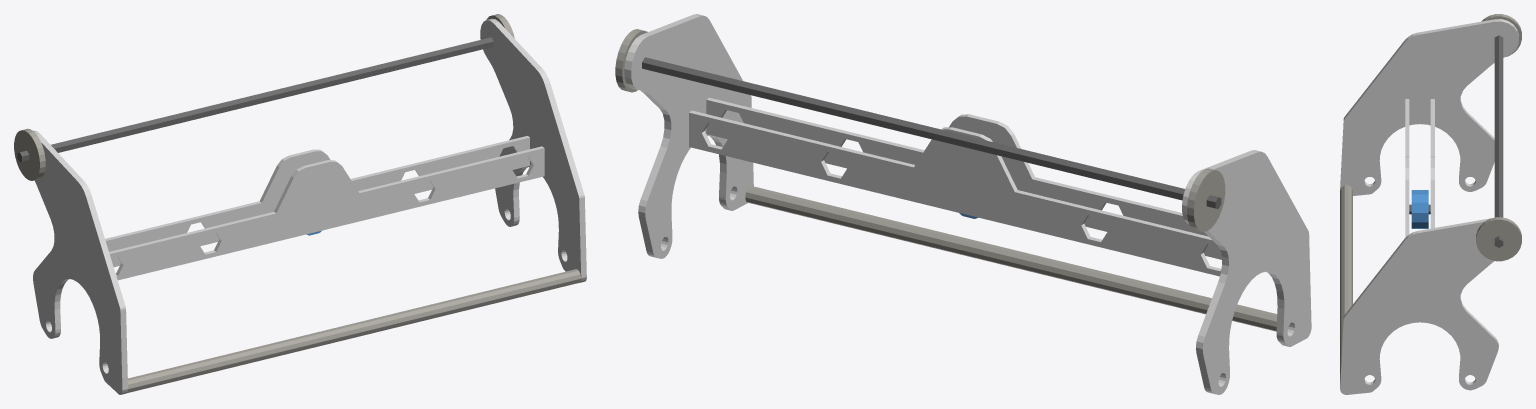
Rendered from ground-intake.glb.
3 renders of one model, left to right at view 1: azimuth 30°, elevation 25°; view 2: azimuth 150°, elevation 25°; view 3: azimuth 270°, elevation 25°, orthographic. The views are drawn at different scales.
Parts seen in each view (by area): view 1: mesh287, mesh227, mesh365, mesh339, mesh262, mesh261, mesh18, mesh19, mesh2, mesh20, mesh219, mesh14 (+7 smaller); view 2: mesh340, mesh227, mesh365, mesh312, mesh266, mesh264, mesh22, mesh21, mesh23, mesh20, mesh219, mesh286 (+3 smaller); view 3: mesh260, mesh366, mesh186, mesh261, mesh264, mesh20, mesh19, mesh21, mesh18, mesh269, mesh278, mesh90 (+9 smaller).
Part boxes in pixels (box(x1,y1,x2,y2)): mesh287: box(109, 148, 544, 280); mesh227: box(33, 143, 122, 394); mesh365: box(480, 20, 581, 277); mesh339: box(105, 137, 529, 267); mesh262: box(54, 41, 493, 152); mesh261: box(51, 37, 493, 148); mesh18: box(128, 274, 581, 388); mesh19: box(128, 270, 579, 384); mesh2: box(127, 279, 580, 392); mesh20: box(128, 269, 578, 380); mesh219: box(14, 130, 39, 180); mesh14: box(86, 195, 125, 308); mesh340: box(689, 112, 1221, 276); mesh227: box(1202, 151, 1311, 394); mesh365: box(631, 15, 753, 258); mesh312: box(706, 100, 1221, 259); mesh266: box(642, 62, 1183, 200); mesh264: box(642, 57, 1185, 194); mesh22: box(745, 192, 1276, 326); mesh21: box(746, 188, 1276, 321); mesh23: box(745, 197, 1276, 330); mesh20: box(748, 186, 1277, 316); mesh219: box(1194, 170, 1225, 231); mesh286: box(689, 110, 914, 167); mesh260: box(1340, 21, 1518, 195); mesh366: box(1340, 222, 1498, 394); mesh186: box(1476, 219, 1521, 261); mesh261: box(1494, 35, 1498, 217); mesh264: box(1499, 35, 1503, 217); mesh20: box(1344, 185, 1348, 314); mesh19: box(1341, 185, 1344, 359); mesh21: box(1348, 185, 1351, 309); mesh18: box(1340, 188, 1341, 384); mesh269: box(1405, 99, 1409, 156); mesh278: box(1430, 99, 1434, 156); mesh90: box(1418, 19, 1495, 34).
Size of the model in its own units: 0.7493 by 0.2929 by 0.2715.
